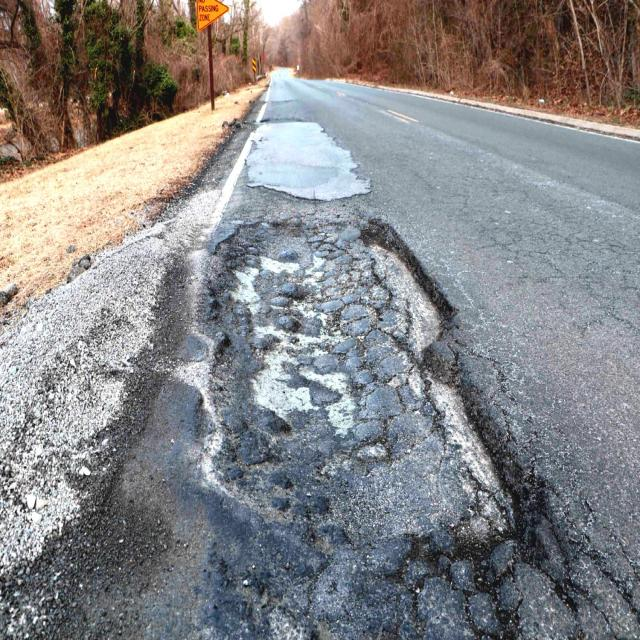pothole: (202, 206, 458, 640)
